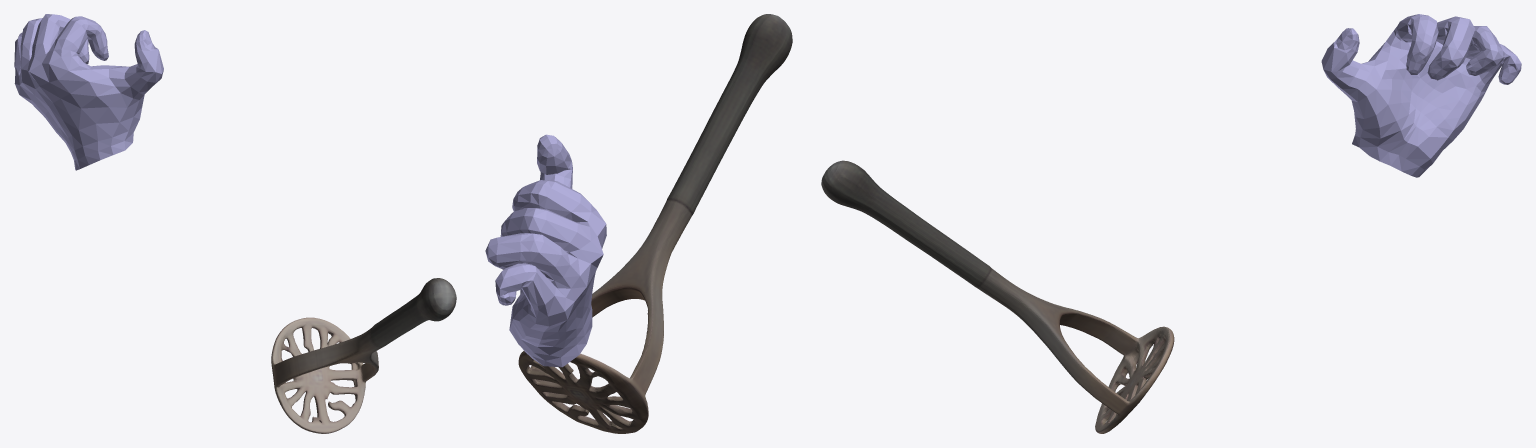
The model's file is frame_0000_source_000000_hand_object.glb.
3 renders of one model, left to right at view 1: azimuth 30°, elevation 25°; view 2: azimuth 150°, elevation 25°; view 3: azimuth 270°, elevation 25°, orthographic. The views are drawn at different scales.
Parts seen in each view (by area): view 1: world; view 2: world; view 3: world.
Part boxes in pixels (<box>): world: <box>14,14,456,433</box>; world: <box>485,14,792,433</box>; world: <box>821,14,1521,433</box>.
Size of the model in its own units: 0.1617 by 0.2618 by 0.4587.
